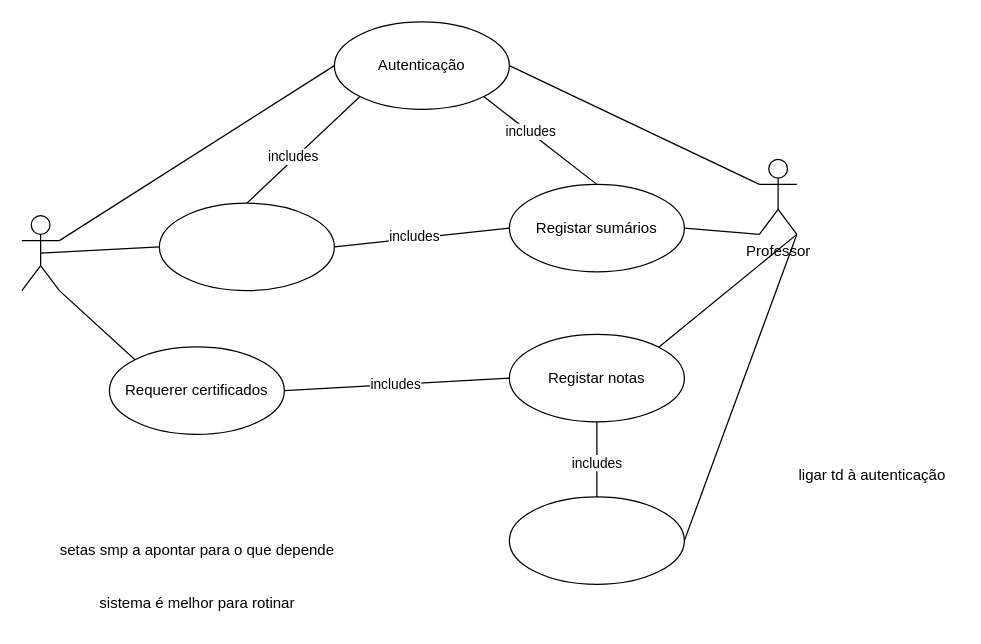
This 981x644 diagram has some shape labels left out. Each missing label, with the box of its shape:
Aluno: (21, 214, 59, 291)
Consultar sumários: (158, 202, 334, 291)
Imprimir pauta: (508, 496, 684, 584)
